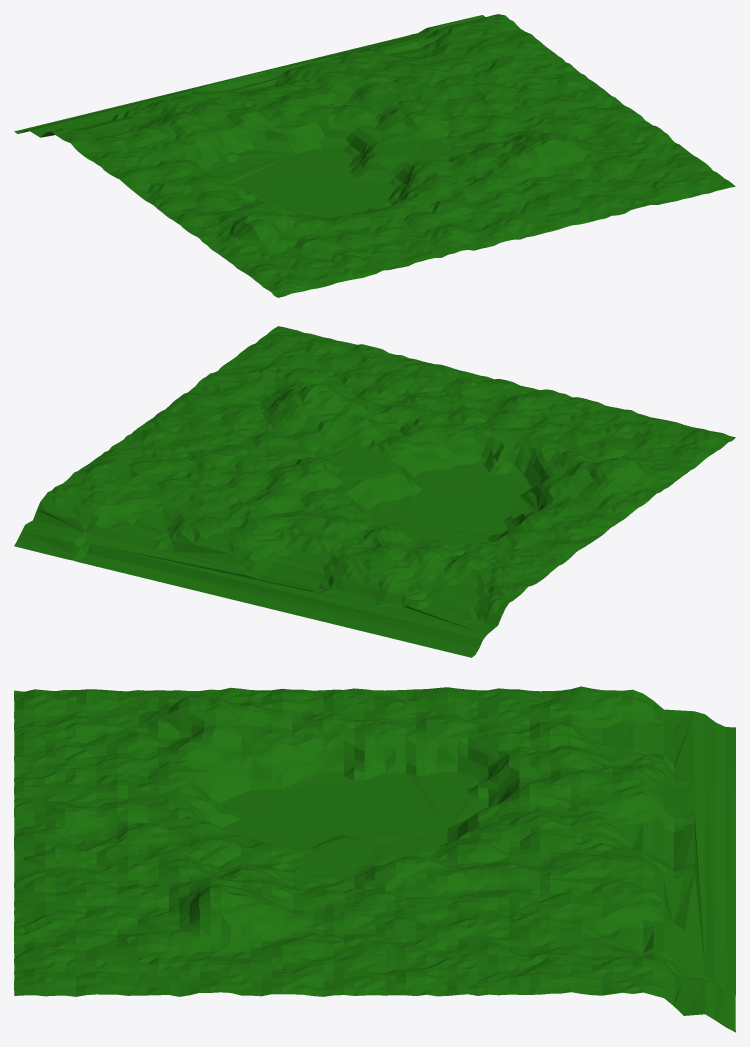
File: Map2.obj
3 renders of one model, top to bottom at view 1: azimuth 30°, elevation 25°; view 2: azimuth 150°, elevation 25°; view 3: azimuth 270°, elevation 25°, orthographic. The views are drawn at different scales.
Parts seen in each view (by area): view 1: Plane.001; view 2: Plane.001; view 3: Plane.001.
Boxes of the visible parts, bbox=[...] form: Plane.001: bbox=[14, 14, 735, 297]; Plane.001: bbox=[14, 326, 735, 657]; Plane.001: bbox=[14, 686, 735, 1032].
Size of the model in its own units: 22.55 by 2.29 by 22.54.
